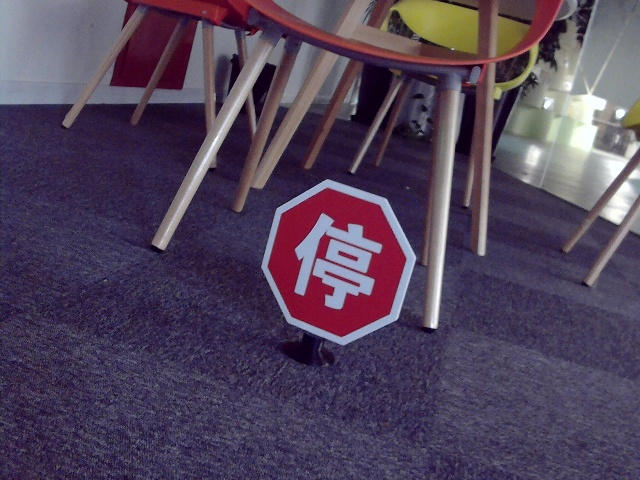stop: (294, 211, 382, 308)
